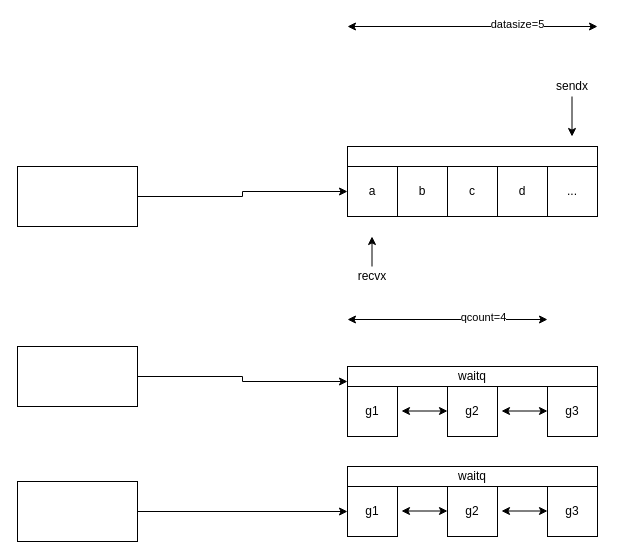
Some shapes in this 624 by 559 pixel diagram are drawn without their labels. The centre of each missing label's shape, as x and y in pixels:
"hchan.buf" goes at point 77,196.
"hchan.recvq" goes at point 77,376.
"hchan.sendq" goes at point 77,511.
"Pointer *ArbitraryType" goes at point 472,156.
